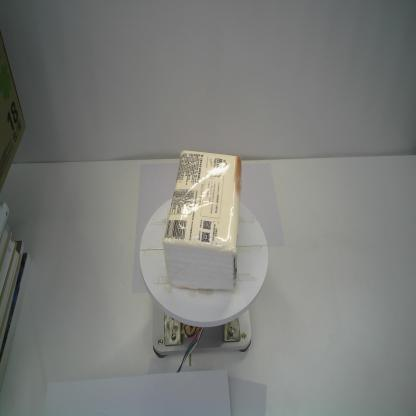Tissue: (161, 149, 243, 292)
